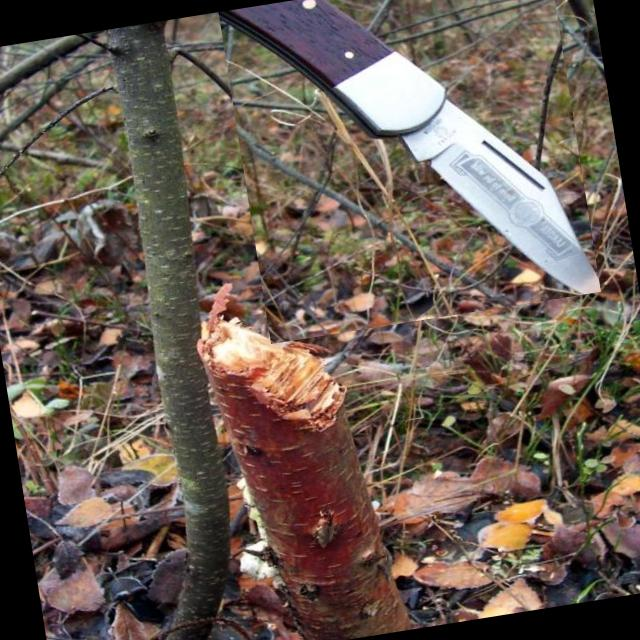Knife: (219, 0, 600, 294)
